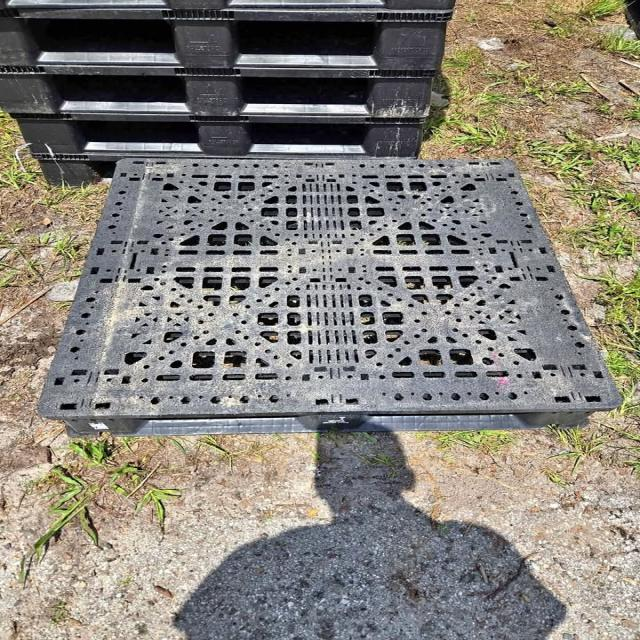non-igps: (29, 154, 631, 447), (0, 14, 460, 89), (0, 71, 443, 131), (0, 112, 440, 165), (0, 0, 466, 37), (22, 146, 144, 194)
